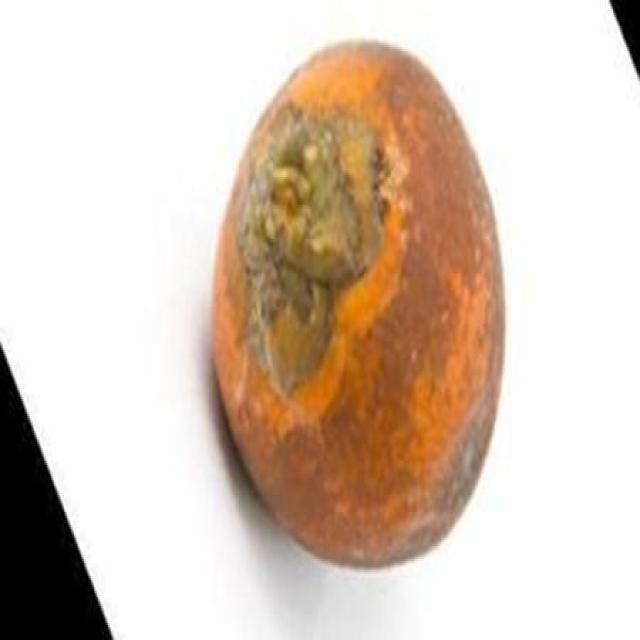good: (209, 45, 506, 572)
